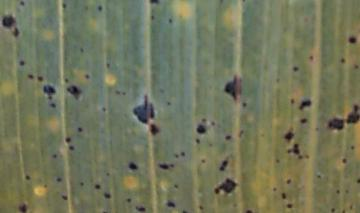tarspot: (133, 95, 155, 123), (225, 74, 242, 103), (215, 179, 238, 194), (347, 105, 360, 123), (2, 14, 16, 28), (328, 118, 344, 130), (67, 85, 81, 98), (44, 85, 56, 99), (299, 99, 312, 110), (196, 123, 206, 134), (289, 144, 299, 154), (150, 123, 159, 134), (285, 130, 294, 141), (136, 205, 147, 213), (19, 204, 28, 213), (220, 160, 227, 170), (348, 35, 356, 43), (104, 192, 112, 200), (13, 27, 19, 37), (159, 164, 169, 170), (129, 162, 137, 169), (36, 75, 44, 81), (238, 130, 244, 138), (166, 202, 175, 207), (95, 184, 102, 190), (149, 1, 161, 4), (286, 178, 292, 184), (286, 203, 293, 208), (246, 209, 254, 213), (282, 191, 286, 199), (28, 73, 33, 79), (50, 103, 56, 108), (98, 5, 103, 11), (168, 18, 173, 24), (102, 106, 107, 112), (201, 158, 206, 164), (290, 98, 295, 104), (301, 118, 307, 123), (306, 154, 311, 160), (62, 195, 68, 200), (43, 183, 49, 188), (225, 136, 232, 140), (64, 77, 69, 82), (66, 137, 71, 142), (122, 91, 127, 96), (202, 117, 207, 122), (242, 102, 247, 107), (342, 158, 347, 163), (336, 188, 341, 193), (317, 174, 322, 179), (315, 127, 320, 132), (57, 177, 62, 182), (209, 142, 214, 147), (62, 3, 66, 9), (86, 74, 90, 80), (167, 100, 171, 106), (196, 138, 200, 144), (294, 66, 298, 72), (341, 57, 345, 63), (351, 144, 355, 150), (331, 207, 335, 213), (357, 176, 360, 184), (182, 210, 189, 213), (20, 1, 24, 6), (20, 61, 25, 65), (151, 16, 155, 21), (70, 145, 74, 150), (80, 48, 84, 53), (116, 91, 121, 95), (175, 153, 179, 158), (309, 55, 314, 59), (174, 184, 178, 189), (199, 206, 204, 210), (273, 187, 277, 192), (276, 158, 280, 163), (299, 155, 303, 160), (341, 209, 346, 213), (26, 175, 31, 179), (127, 198, 132, 202), (355, 63, 358, 69), (78, 128, 82, 132), (53, 154, 57, 158), (181, 152, 185, 156), (81, 181, 85, 185), (106, 172, 110, 176), (220, 1, 224, 5), (107, 63, 110, 68), (350, 205, 353, 210), (276, 78, 279, 83), (171, 164, 174, 168), (212, 122, 215, 126), (242, 1, 246, 2)
